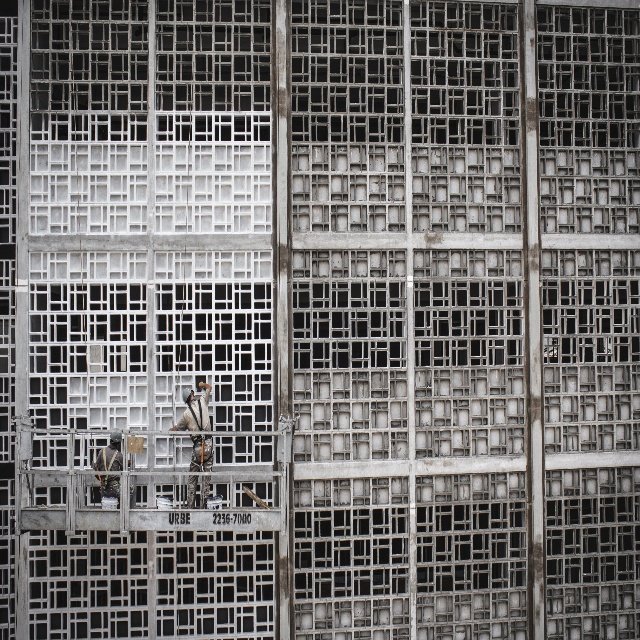Sin_guantes: (198, 380, 204, 390)
